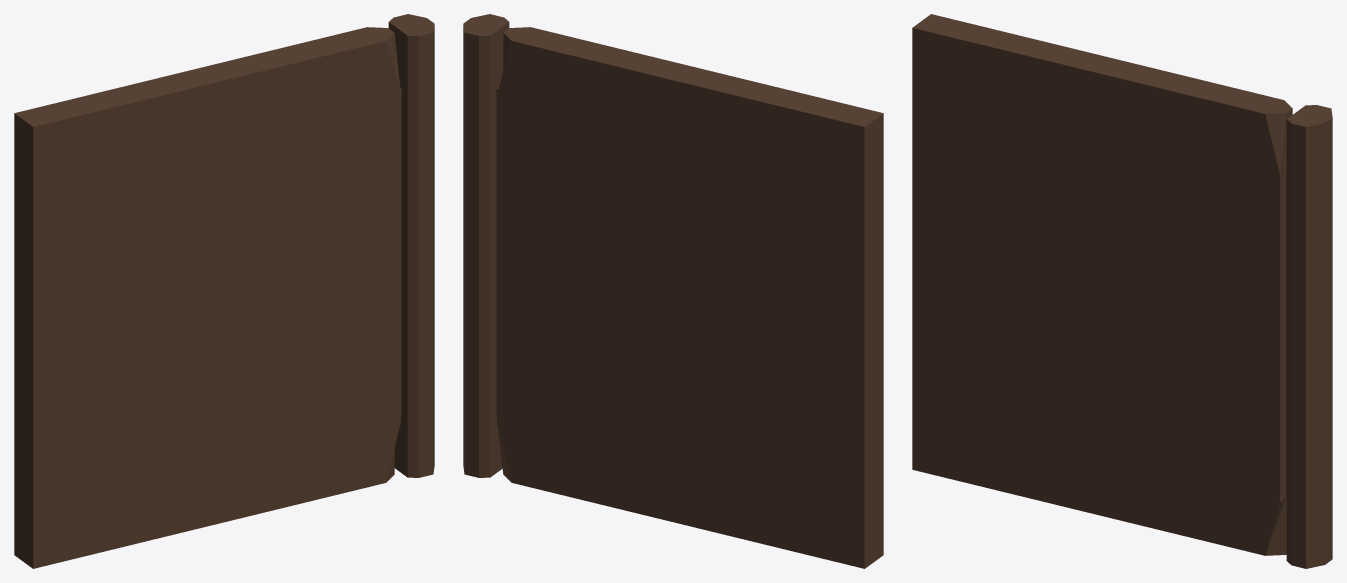
The model's file is Puerta Sup (Modelo).fbx.
3 views of the same model, side by side, from view 1: azimuth 30°, elevation 25°; view 2: azimuth 150°, elevation 25°; view 3: azimuth 330°, elevation 25° (orthographic).
Visible parts, largest first — view 1: Perta_sup_cuerto1; view 2: Perta_sup_cuerto1; view 3: Perta_sup_cuerto1.
Boxes of the visible parts, <box> form: Perta_sup_cuerto1: <box>14,14,434,568</box>; Perta_sup_cuerto1: <box>463,14,883,568</box>; Perta_sup_cuerto1: <box>912,14,1332,568</box>.
Bounding box in the file's own units: 0.6392 × 0.6632 × 0.0688.
